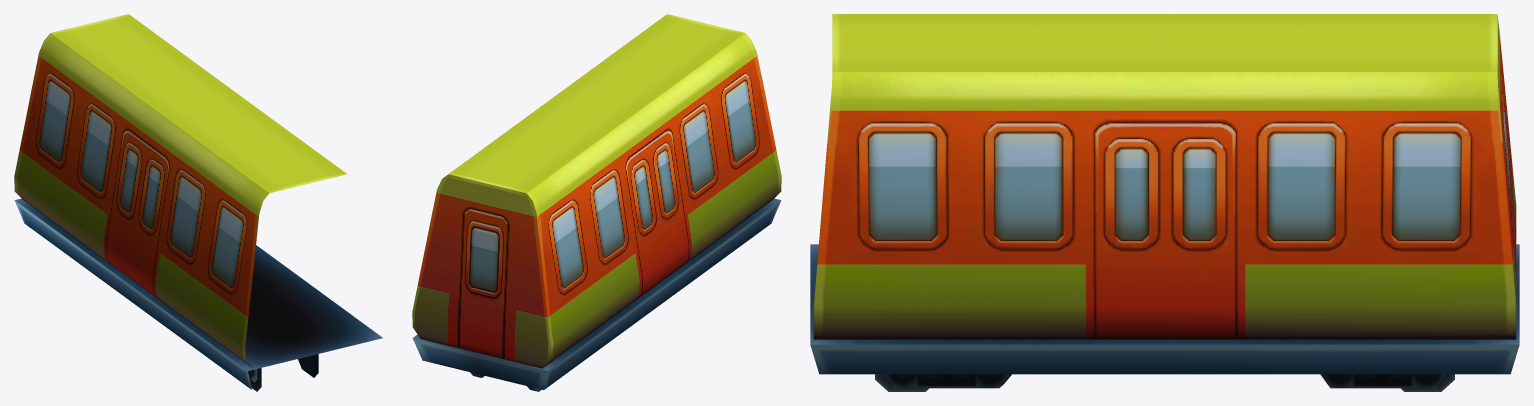
The model's file is train.glb.
3 views of the same model, side by side, from view 1: azimuth 30°, elevation 25°; view 2: azimuth 150°, elevation 25°; view 3: azimuth 270°, elevation 25° (orthographic). The views are drawn at different scales.
Visible parts, largest first — view 1: default.008; view 2: default.008; view 3: default.008.
Part boxes in pixels (bbox=[...]): default.008: bbox=[14, 14, 382, 391]; default.008: bbox=[412, 14, 781, 391]; default.008: bbox=[810, 14, 1519, 391].
Size of the model in its own units: 18.82 by 27.84 by 55.13.
1 material, 1 textured.
